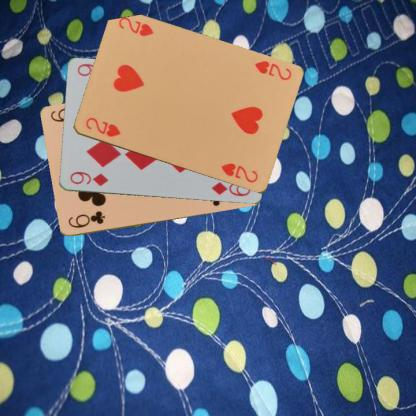2h: (83, 114, 122, 139), (252, 58, 292, 82)
6c: (66, 209, 106, 230)
9d: (67, 168, 109, 187)
